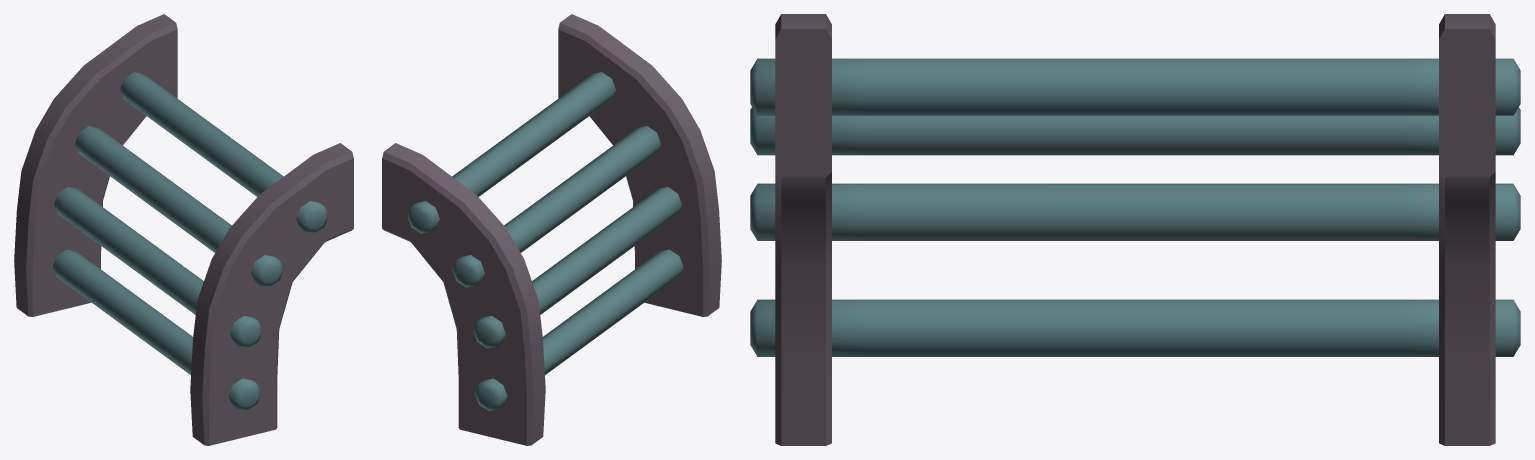
The model's file is GB_142_143_ladder_var01.glb.
3 views of the same model, side by side, from view 1: azimuth 30°, elevation 25°; view 2: azimuth 150°, elevation 25°; view 3: azimuth 270°, elevation 25° (orthographic). The views are drawn at different scales.
Visible parts, largest first — view 1: Ladder142Var01; view 2: Ladder142Var01; view 3: Ladder142Var01.
Boxes of the visible parts, x1,y1,x2,y2 form: Ladder142Var01: (14,14,353,445); Ladder142Var01: (382,14,721,445); Ladder142Var01: (750,14,1520,445).
Bounding box in the file's own units: 0.4723 × 0.7752 × 1.11.
